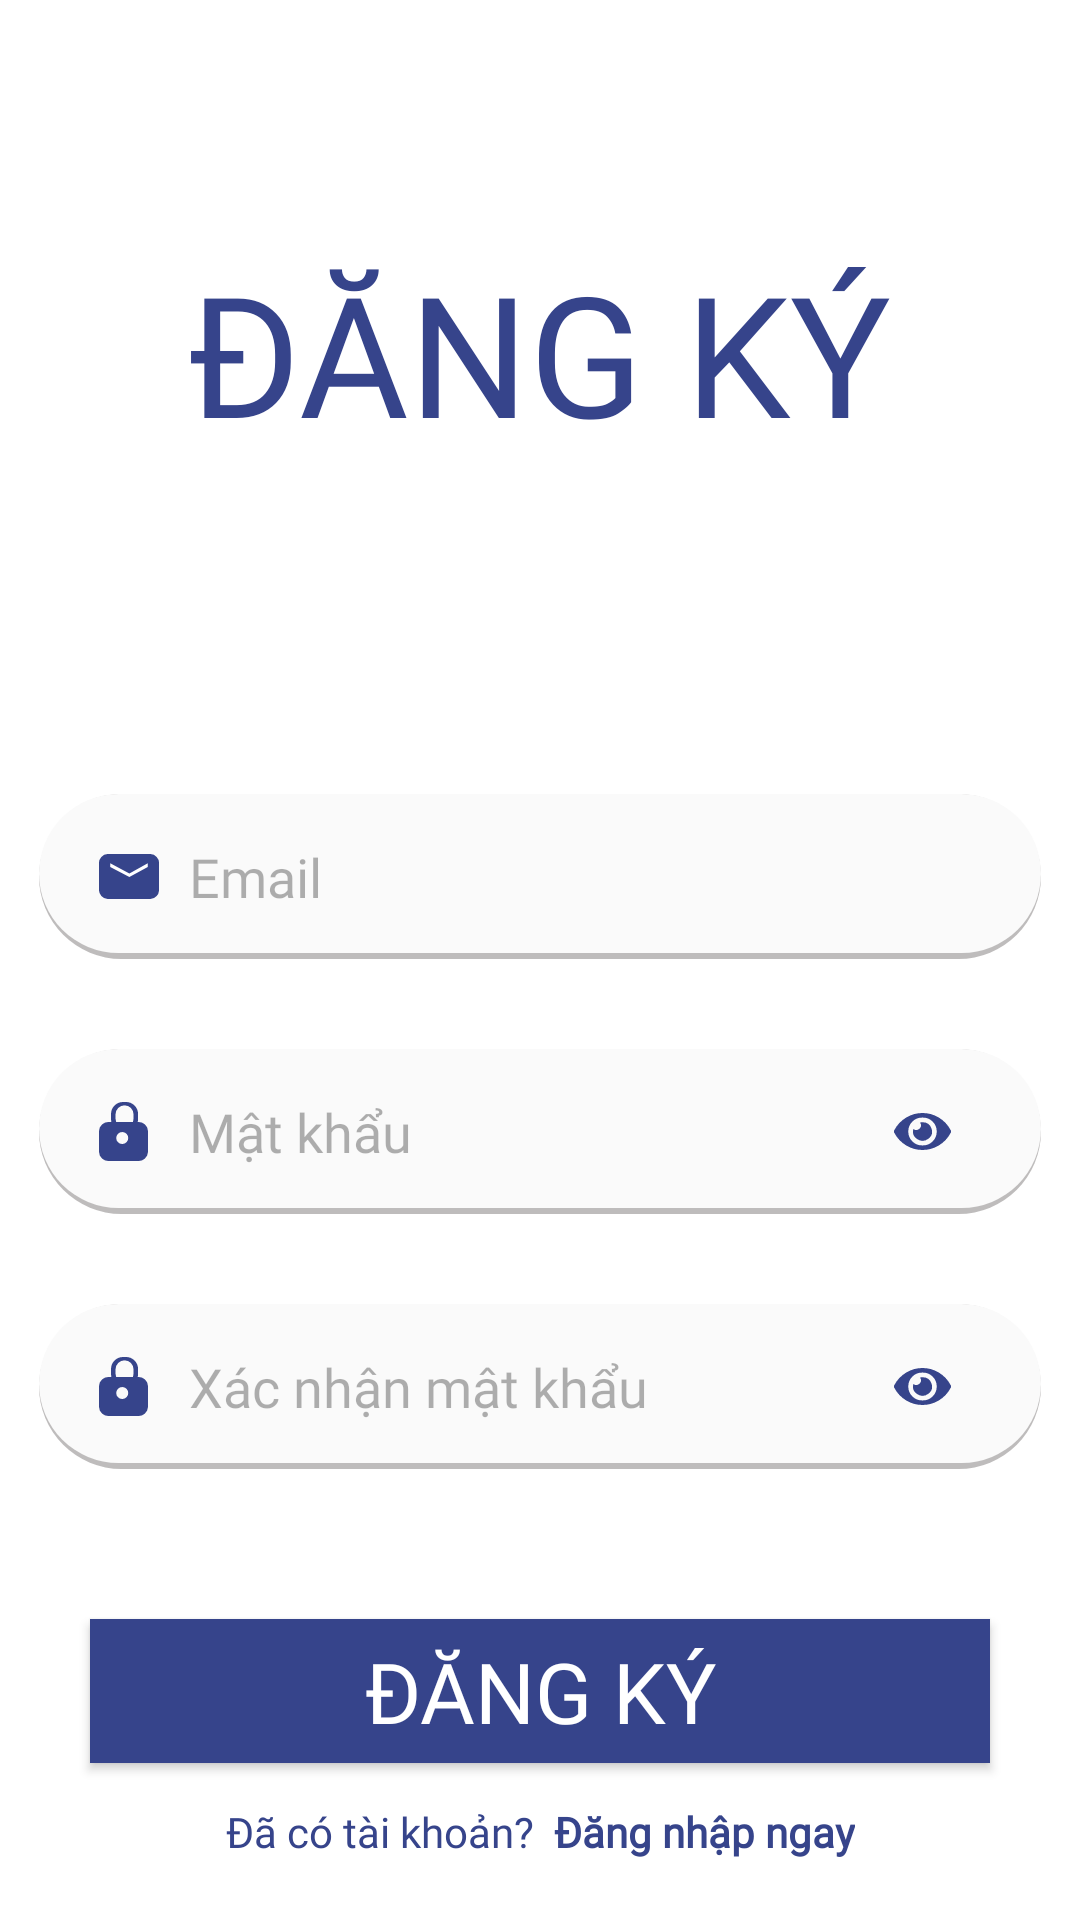

Icons on this 1080px x 1920px Android screen, each with the point to tap as [x,y]:
pass: [123,1131], [123,1386]
see: [922,1131], [922,1386]
